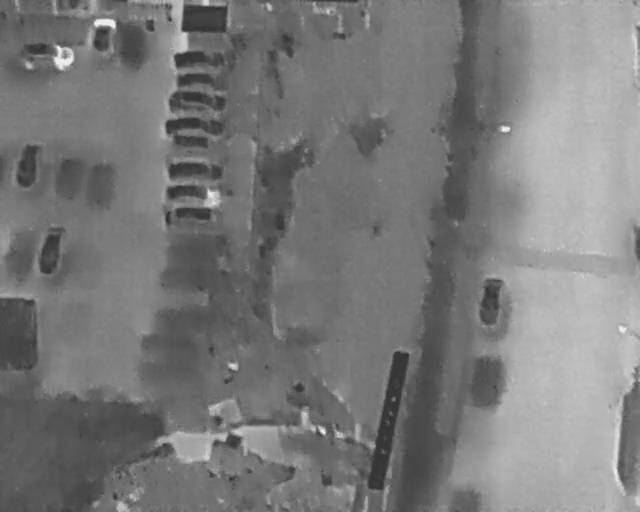Car: (36, 223, 66, 275), (476, 275, 506, 327), (22, 44, 75, 72), (166, 184, 222, 207), (169, 91, 226, 113), (88, 16, 117, 58), (15, 141, 40, 188), (164, 118, 225, 137), (173, 48, 225, 70), (168, 161, 224, 181), (163, 208, 219, 228), (175, 72, 227, 93)
